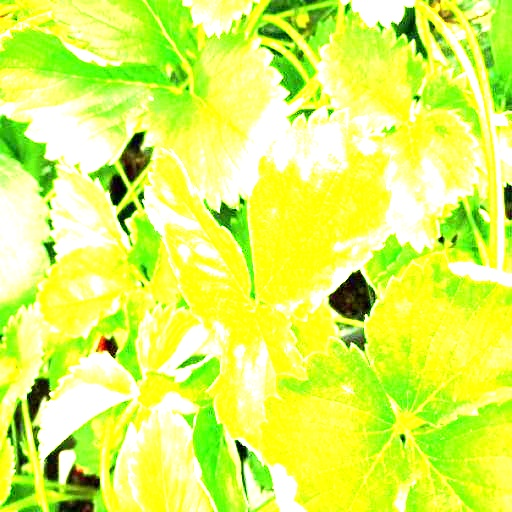Powdery Mildew Leaf: (245, 105, 393, 322), (259, 336, 423, 511), (362, 253, 511, 427), (142, 147, 252, 330), (206, 304, 308, 467), (36, 351, 142, 464)
